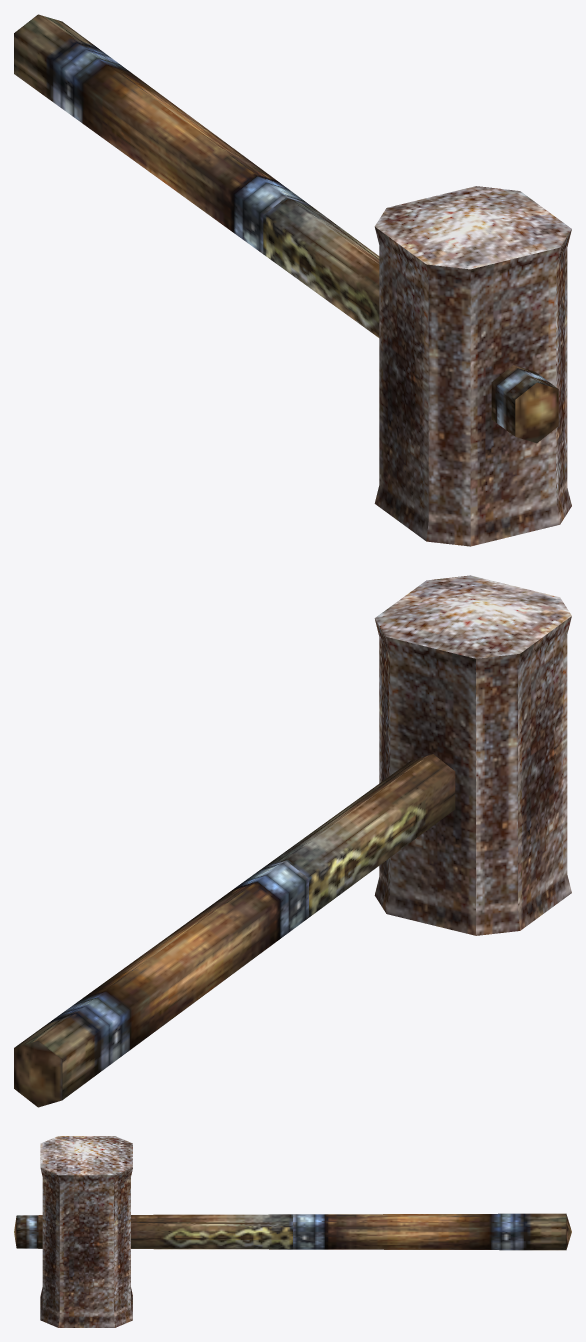
The model's file is waj17.glb.
3 views of the same model, one above another, from view 1: azimuth 30°, elevation 25°; view 2: azimuth 150°, elevation 25°; view 3: azimuth 270°, elevation 25° (orthographic). The views are drawn at different scales.
Visible parts, largest first — view 1: waj17-col; view 2: waj17-col; view 3: waj17-col.
Boxes of the visible parts, x1,y1,x2,y2 form: waj17-col: [14, 14, 571, 546]; waj17-col: [14, 575, 571, 1107]; waj17-col: [14, 1136, 571, 1327].
Bounding box in the file's own units: 0.1435 × 0.28 × 0.8644.
Materials: 1 (1 with a texture image).
